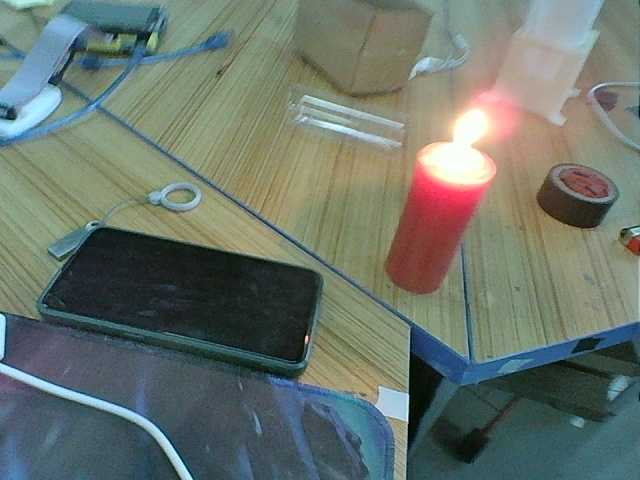candle: (376, 172, 483, 287)
fire: (419, 110, 500, 184)
